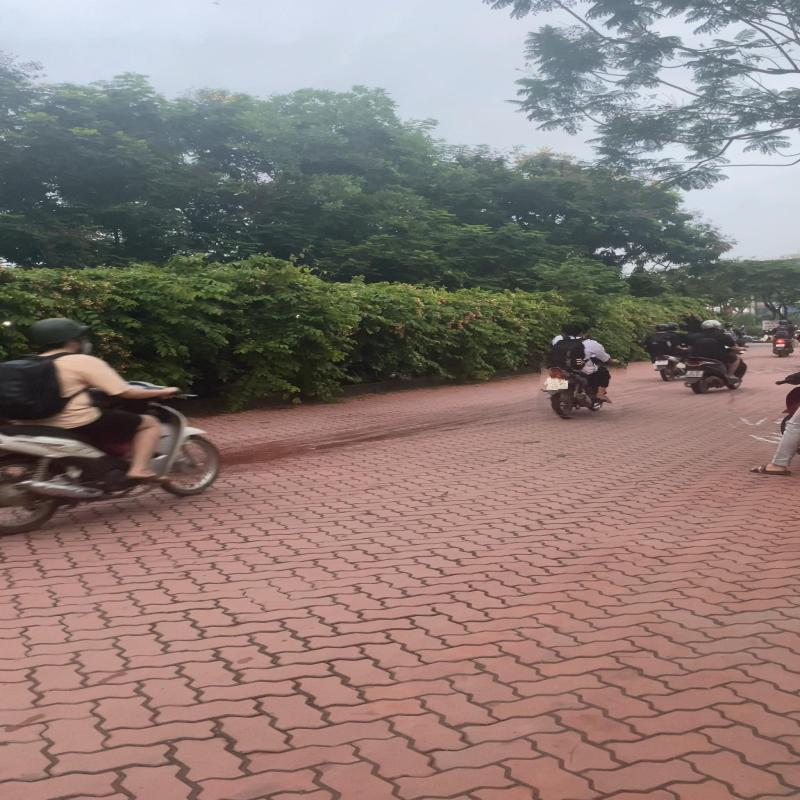licenseplate: (546, 384, 568, 390)
motorcyclist: (538, 319, 629, 422)
nohelmet: (562, 322, 585, 336)
